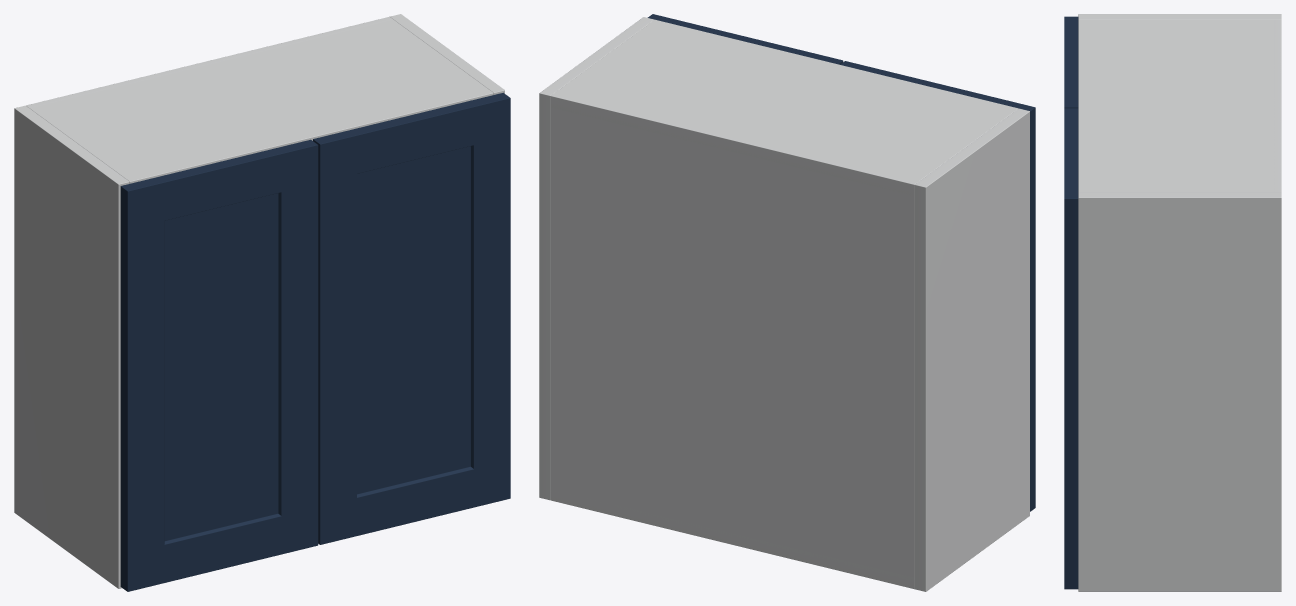
The model's file is oppein-pb-bss-w2424.glb.
3 renders of one model, left to right at view 1: azimuth 30°, elevation 25°; view 2: azimuth 150°, elevation 25°; view 3: azimuth 270°, elevation 25°, orthographic. The views are drawn at different scales.
Parts seen in each view (by area): view 1: Door, Door.001, Cabinet side, Cabinet top, Cabinet back, Cabinet side.001; view 2: Cabinet back, Cabinet side, Cabinet top, Cabinet side.001, Door, Cabinet bottom, Door.001; view 3: Cabinet side.001, Cabinet top, Door.001, Cabinet back, Door, Cabinet side.
Boxes of the visible parts, bbox=[...] form: Door: bbox=[120, 139, 318, 591]; Door.001: bbox=[313, 92, 510, 544]; Cabinet side: bbox=[14, 105, 129, 588]; Cabinet top: bbox=[27, 18, 493, 183]; Cabinet back: bbox=[26, 17, 392, 108]; Cabinet side.001: bbox=[390, 14, 504, 94]; Cabinet back: bbox=[550, 93, 917, 588]; Cabinet side: bbox=[914, 108, 1029, 591]; Cabinet top: bbox=[550, 19, 1018, 195]; Cabinet side.001: bbox=[539, 17, 654, 500]; Door: bbox=[840, 61, 1035, 511]; Cabinet bottom: bbox=[550, 489, 914, 588]; Door.001: bbox=[647, 14, 843, 64]; Cabinet side.001: bbox=[1078, 192, 1281, 591]; Cabinet top: bbox=[1078, 19, 1281, 192]; Door.001: bbox=[1064, 108, 1078, 589]; Cabinet back: bbox=[1273, 19, 1281, 192]; Door: bbox=[1064, 16, 1078, 108]; Cabinet side: bbox=[1078, 14, 1281, 19].
Bounding box in the file's own units: 0.6096 × 0.6096 × 0.3048.
